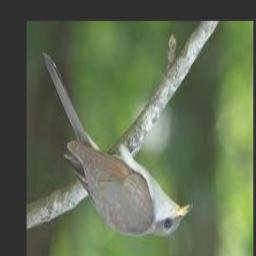Cuckoo: (43, 53, 192, 238)
